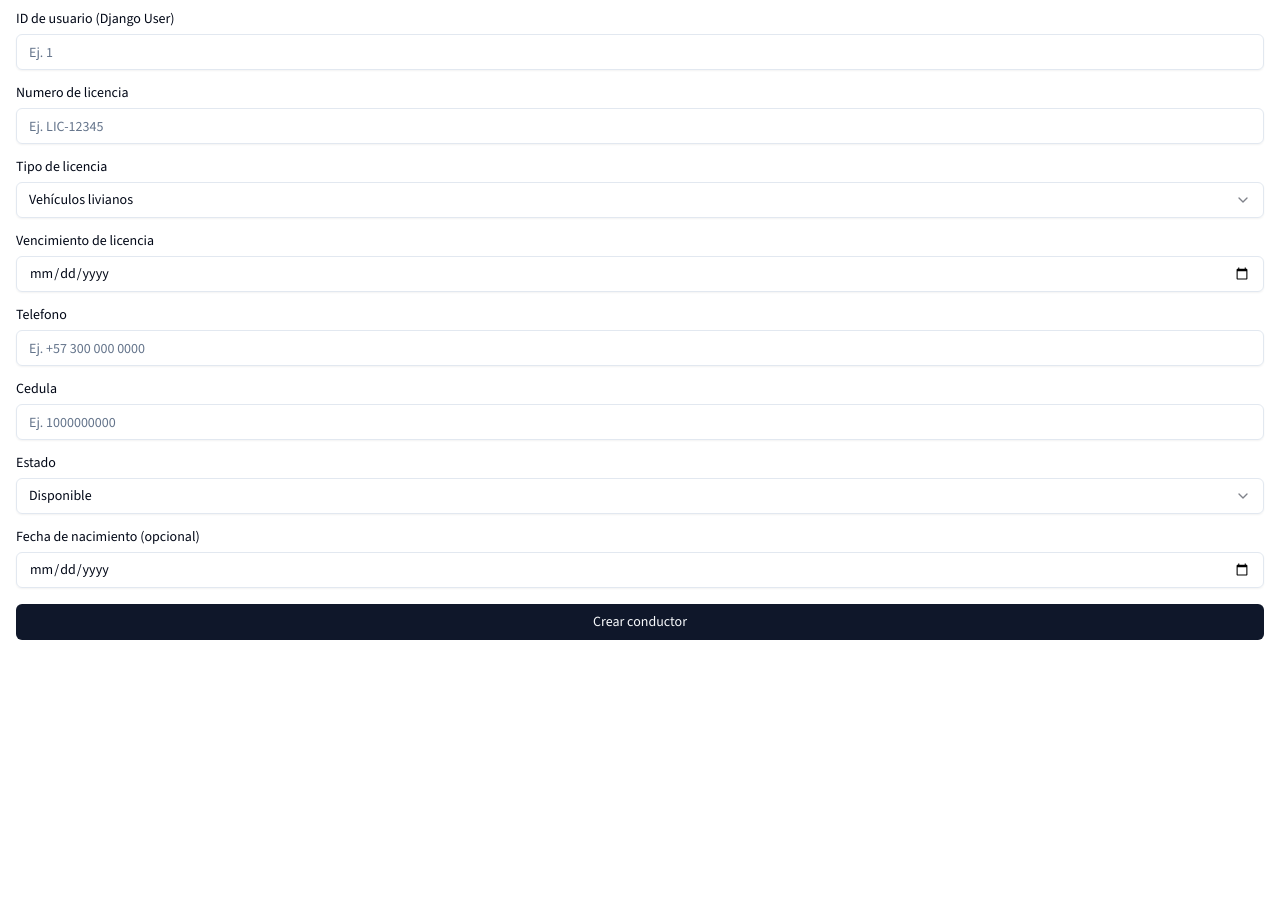
Scenario: DriverForm — validation › shows error when phone is empty on submit
Type "1" into the number field with placeholder "Ej. 1" at point(640, 52), box [16,34,1264,70]
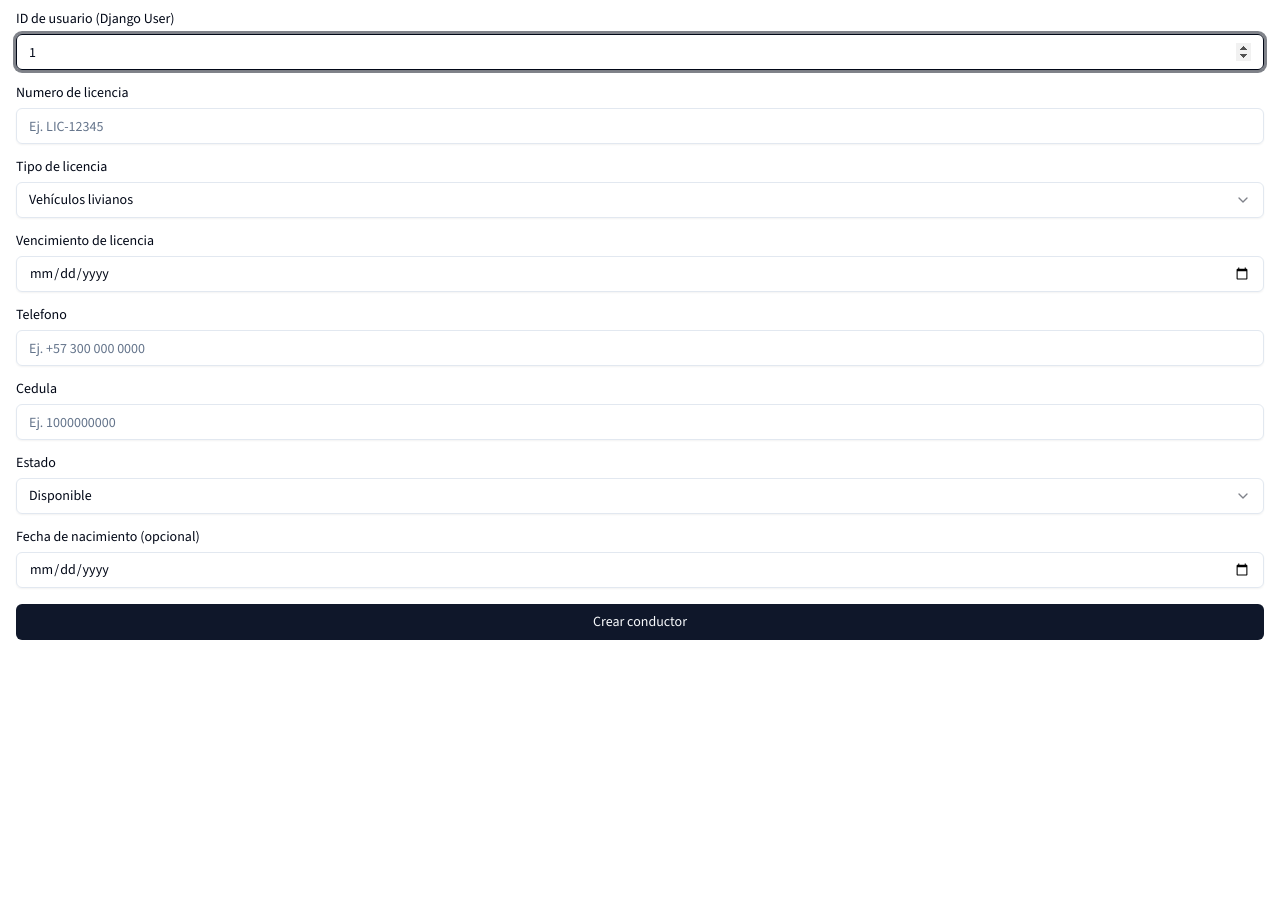
Type "LIC-001" into the field with placeholder "Ej. LIC-12345" at point(640, 126), box [16,108,1264,144]
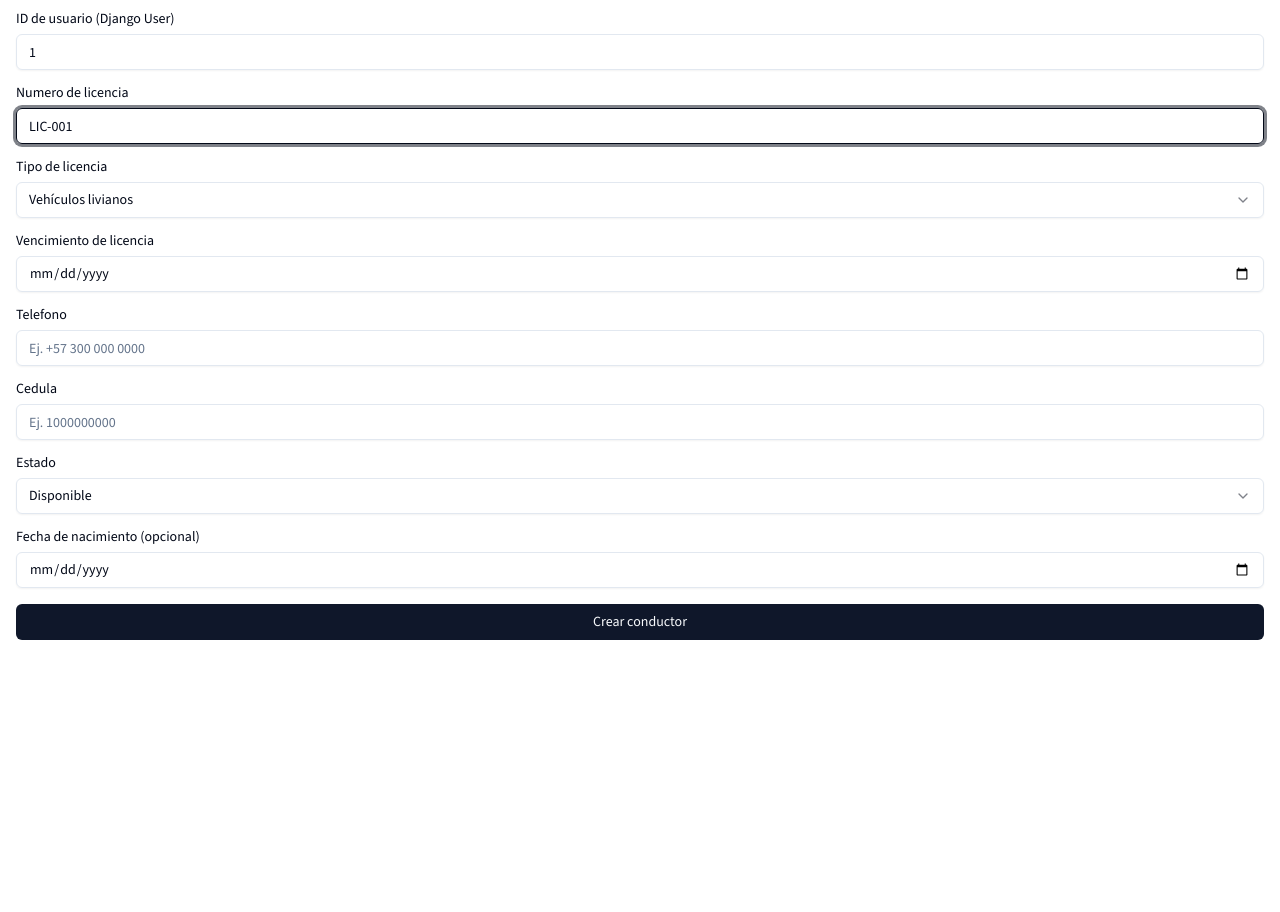
Type "9876543210" into the field with placeholder "Ej. 1000000000" at point(640, 422), box [16,404,1264,440]
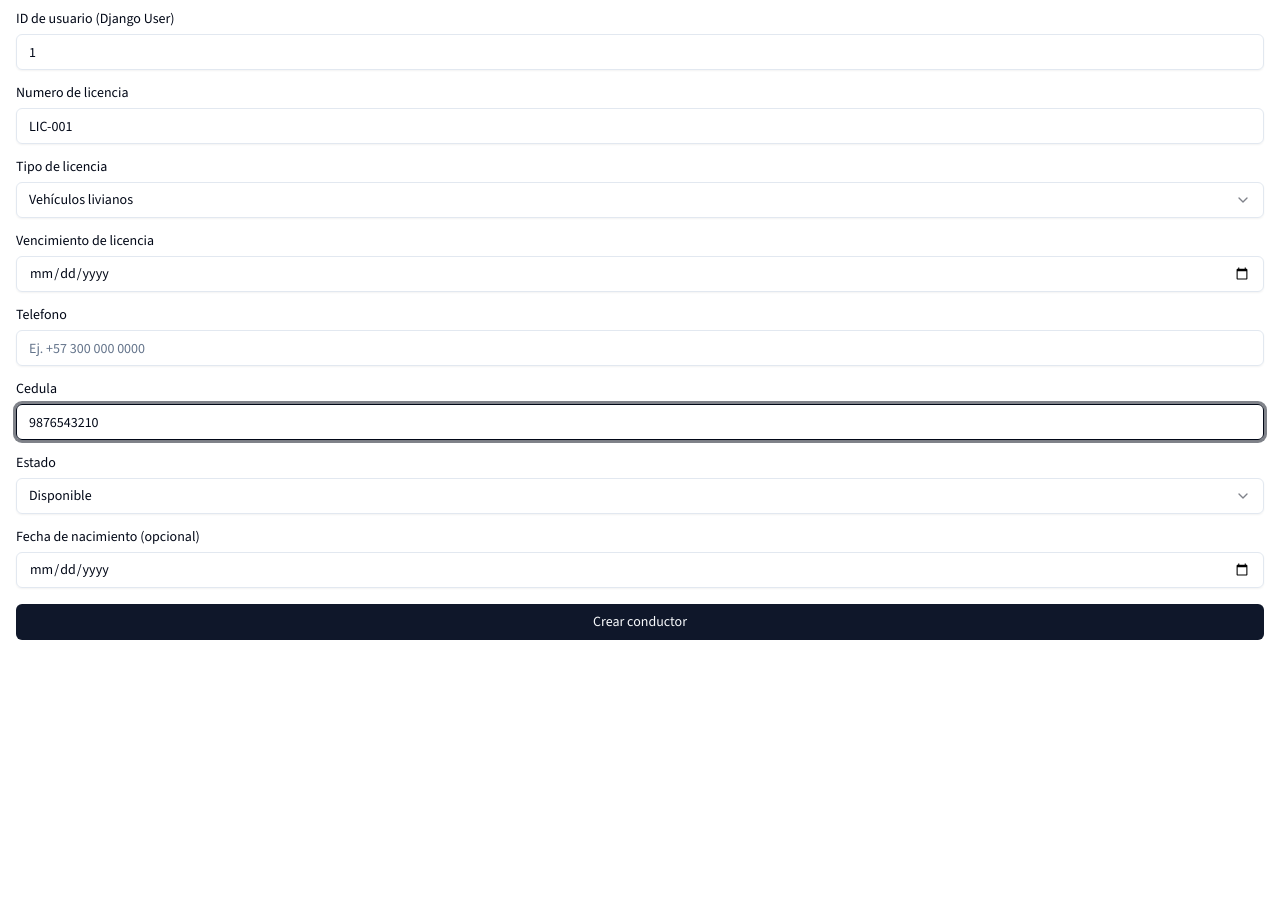
Type "2027-12-31" into the date field labelled "Vencimiento de licencia" at point(640, 274), box [16,256,1264,292]
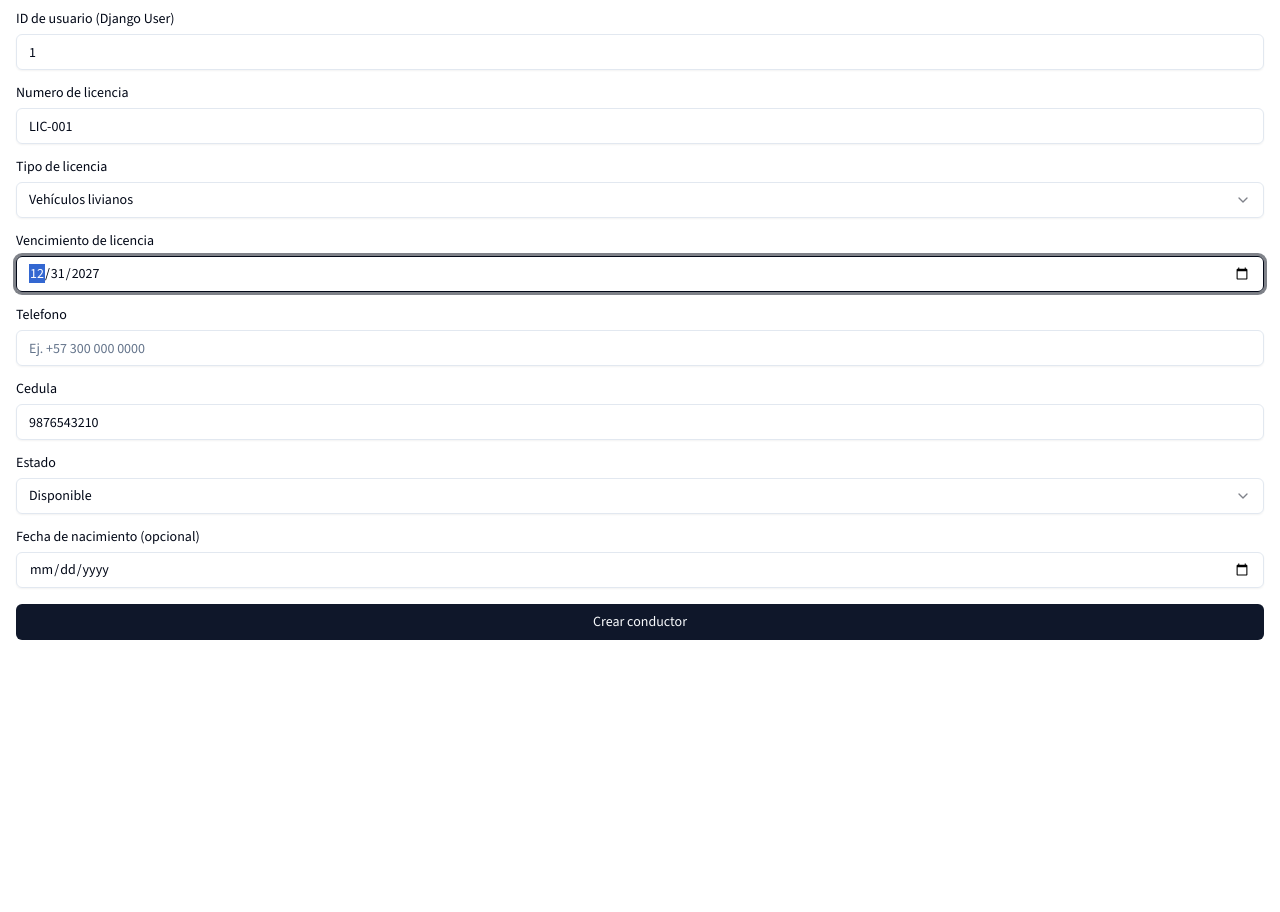
Click the button "Crear conductor" at point(640, 622), box [16,604,1264,640]
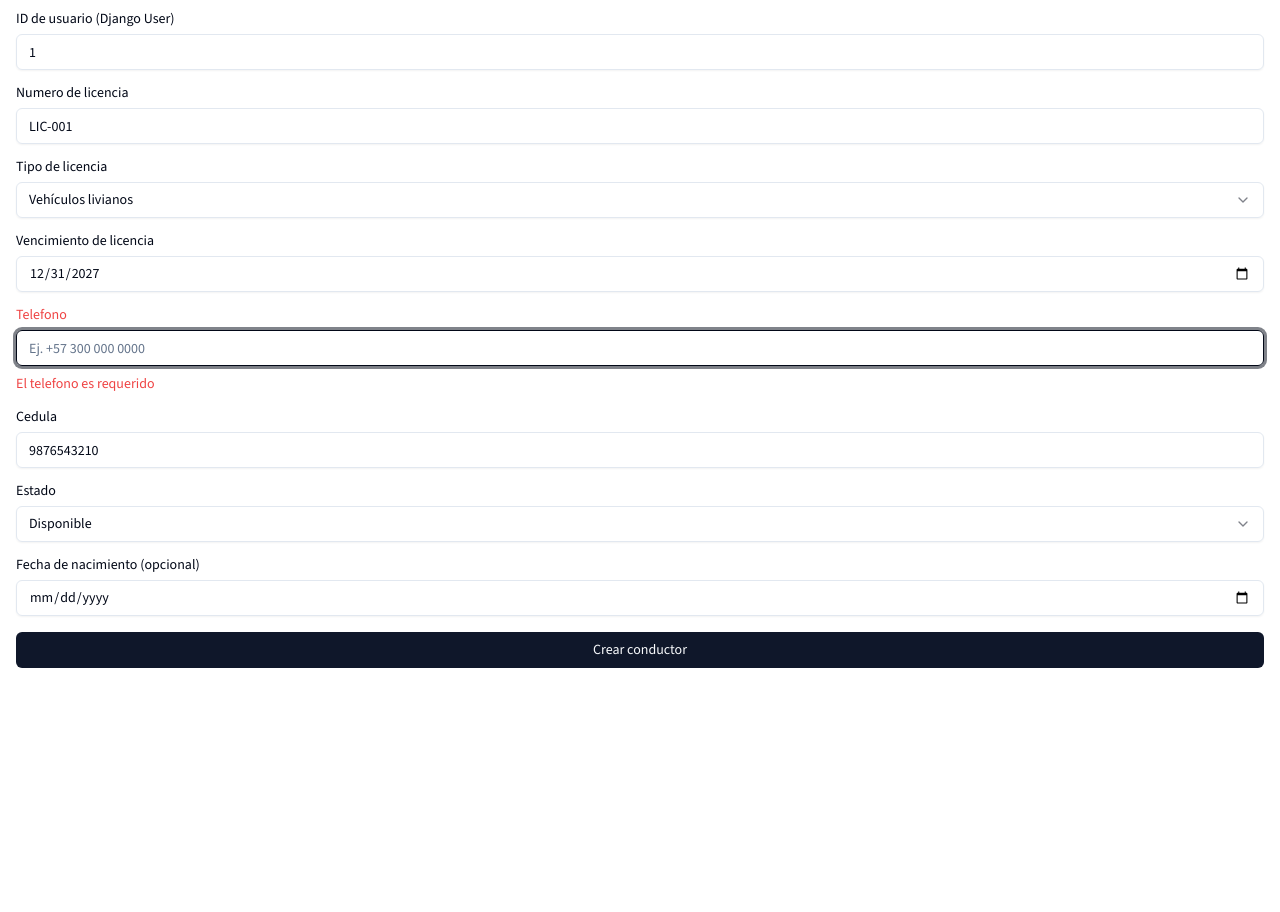
Result: the text "El telefono es requerido" is shown at [16,374,155,393]
